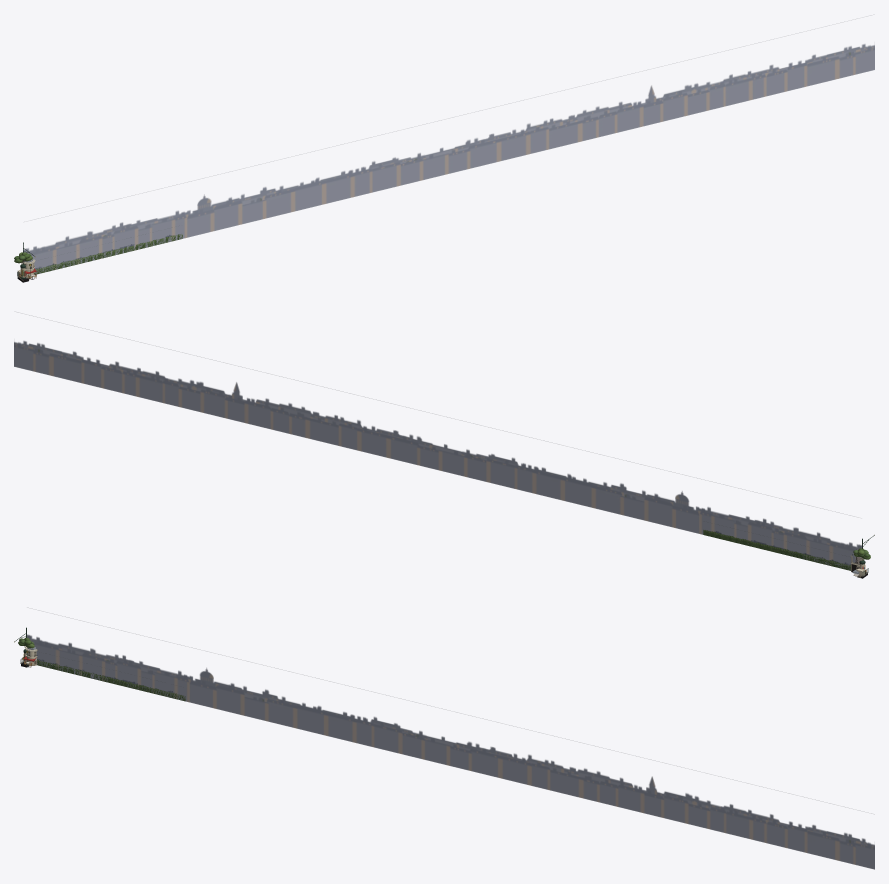
The model's file is paris-kit.glb.
3 renders of one model, top to bottom at view 1: azimuth 30°, elevation 25°; view 2: azimuth 150°, elevation 25°; view 3: azimuth 330°, elevation 25°, orthographic.
Visible parts, largest first — view 1: skyline_card, farrow_card; view 2: skyline_card, farrow_card; view 3: skyline_card, farrow_card.
Boxes of the visible parts, x1,y1,x2,y2 form: skyline_card: [23, 44, 874, 274]; farrow_card: [34, 234, 182, 274]; skyline_card: [14, 341, 861, 569]; farrow_card: [703, 530, 850, 570]; skyline_card: [27, 634, 874, 869]; farrow_card: [37, 659, 185, 701].
Size of the model in its own units: 162 by 10.4 by 5.55.
Materials: 5 (5 with a texture image).
